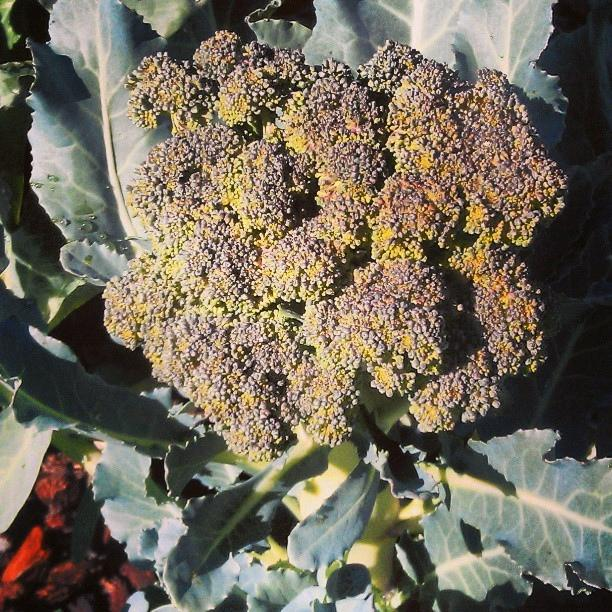broccoli: (102, 30, 569, 464)
